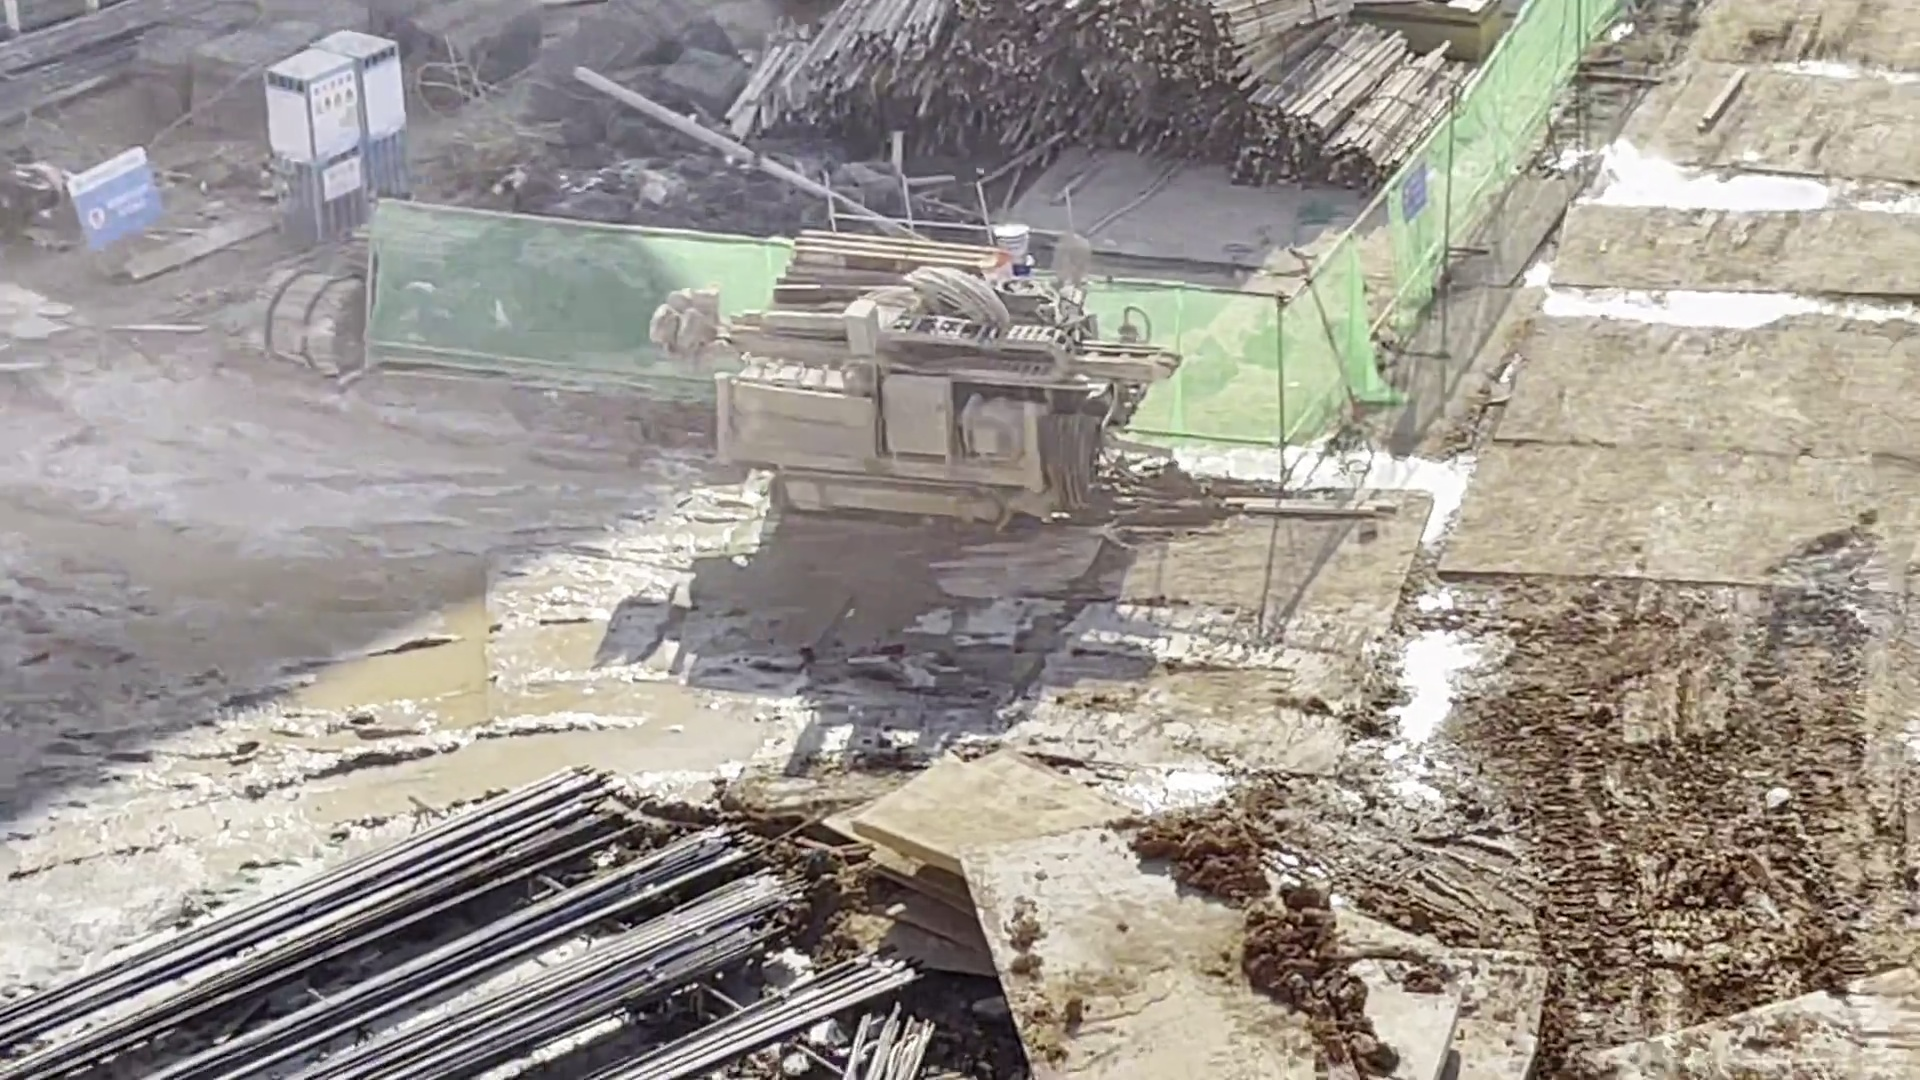fence: (69, 158, 164, 251), (305, 76, 367, 202)
rebar: (1, 764, 930, 1080)
wood: (723, 1, 1244, 170), (1226, 18, 1485, 195)
